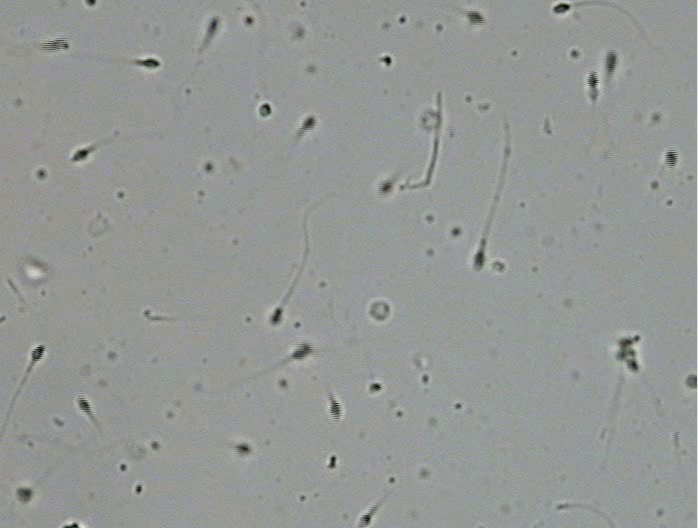Impurity: (368, 300, 390, 320)
S: (616, 337, 632, 360), (292, 343, 313, 360), (42, 38, 69, 50), (467, 10, 485, 25), (664, 150, 678, 169), (329, 399, 341, 421), (31, 345, 45, 362), (77, 397, 91, 414), (301, 116, 316, 131), (474, 250, 485, 270), (606, 51, 616, 73), (139, 58, 160, 68), (17, 488, 32, 502), (586, 71, 599, 87), (72, 149, 89, 161), (270, 307, 282, 324), (208, 17, 219, 35), (553, 3, 571, 14), (259, 103, 272, 117), (379, 181, 393, 194), (626, 358, 639, 372), (685, 374, 697, 389), (235, 443, 251, 454), (359, 513, 371, 527), (85, 1, 96, 6)
